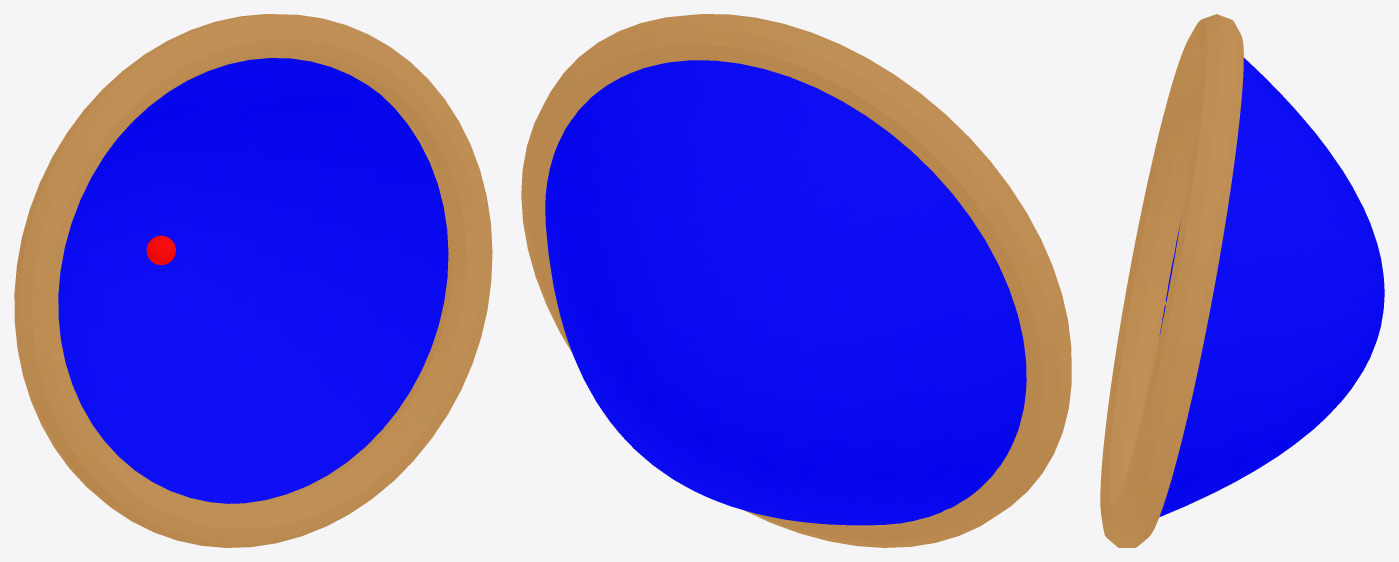
File: bullet.glb
The picture shows the model from 3 angles, left to right: view 1: azimuth 30°, elevation 25°; view 2: azimuth 150°, elevation 25°; view 3: azimuth 270°, elevation 25°; orthographic projection. The views are drawn at different scales.
Size of the model in its own units: 36.99 by 36.29 by 19.39.
